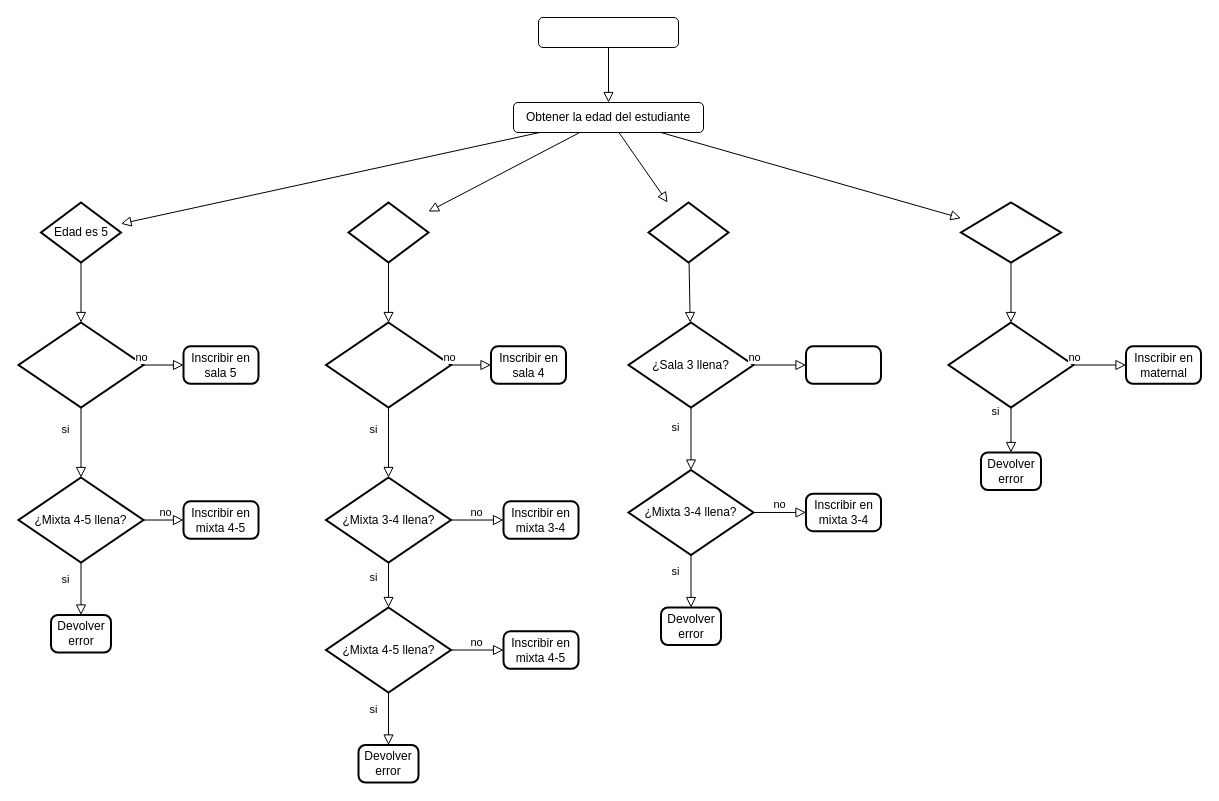
The diagram is 1219 pixels wide and 801 high, and some of its shapes have lost their labels. Each missing label, with the box of its shape:
Asociar salas a aulas: (538, 16, 678, 48)
Edad es 0 a 2: (960, 201, 1062, 263)
Edad es 3: (647, 201, 729, 263)
Edad es 4: (347, 201, 429, 263)
Inscribir en sala 3: (804, 345, 882, 384)
¿Maternal llena?: (947, 321, 1074, 408)
¿Sala 4 llena?: (324, 321, 452, 408)
¿Sala 5 llena?: (17, 321, 144, 408)
